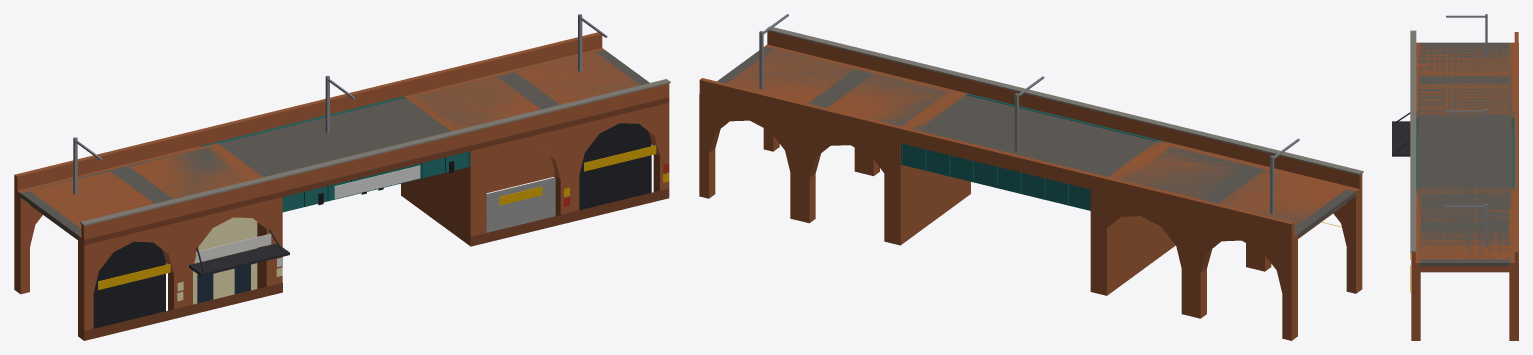
File: bld_railway-bridge.76422f3af7ea.glb
The picture shows the model from 3 angles, left to right: view 1: azimuth 30°, elevation 25°; view 2: azimuth 150°, elevation 25°; view 3: azimuth 270°, elevation 25°; orthographic projection. The views are drawn at different scales.
Visible parts, largest first — view 1: body; view 2: body; view 3: body.
Boxes of the visible parts, left/top/right/bottom form: body: left=14, top=14, right=670, bottom=340; body: left=699, top=14, right=1363, bottom=340; body: left=1392, top=14, right=1518, bottom=340.
Bounding box in the file's own units: 43.7 × 11.2 × 10.6.
